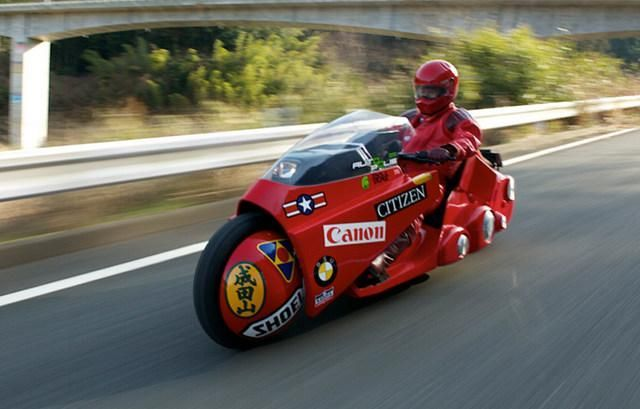bike: (191, 53, 561, 361)
